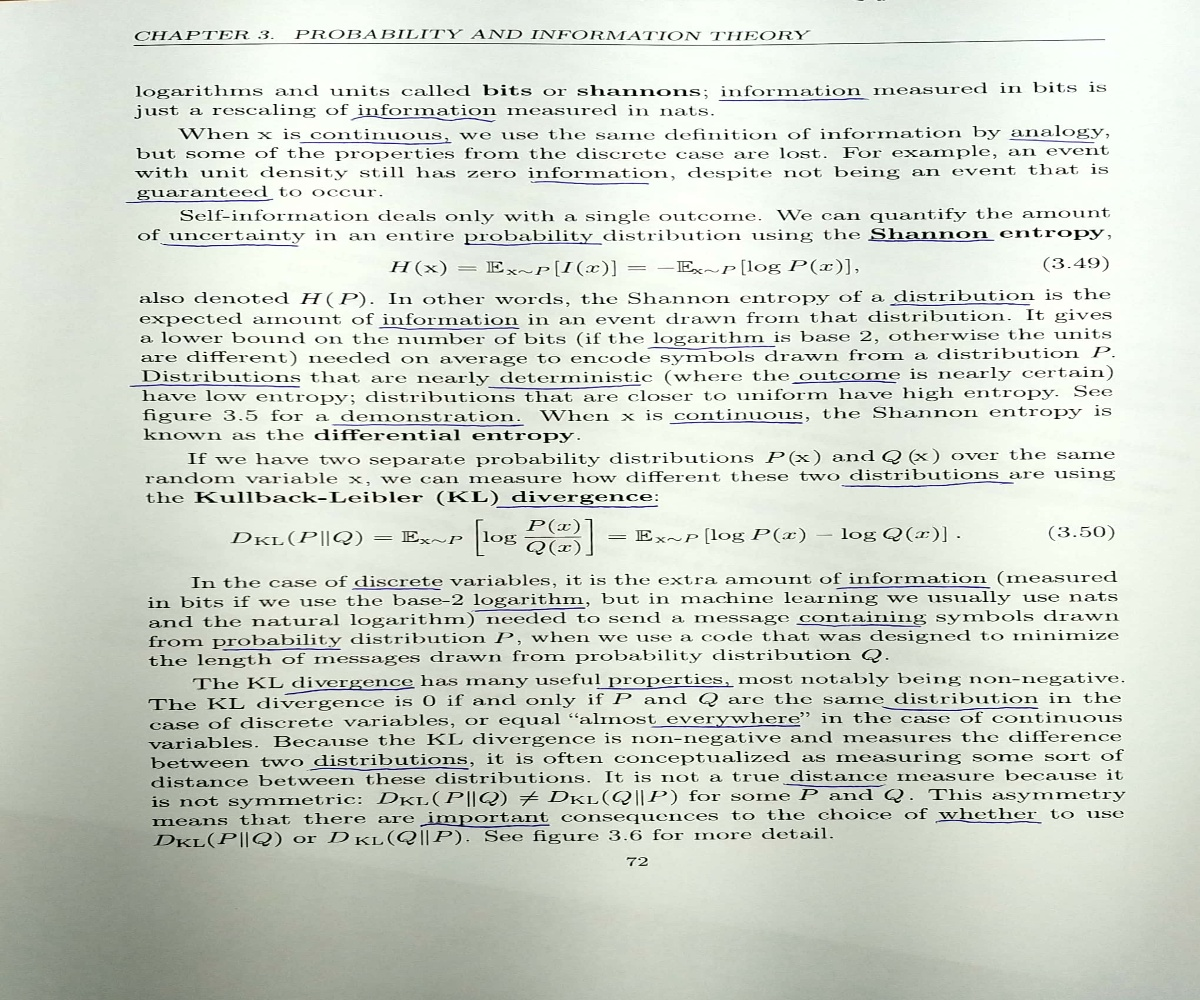underline: (838, 478, 1012, 490), (329, 420, 526, 430), (157, 240, 301, 252), (491, 501, 661, 511), (306, 764, 472, 774), (282, 686, 420, 698), (347, 113, 496, 124), (885, 300, 1034, 311), (418, 820, 551, 832), (792, 620, 923, 632), (836, 581, 993, 591), (874, 703, 1040, 712), (373, 322, 522, 332), (593, 683, 735, 693), (131, 382, 299, 390), (531, 178, 652, 189), (663, 419, 807, 428), (298, 138, 453, 146), (647, 722, 802, 730), (717, 97, 871, 105), (1007, 136, 1101, 149), (933, 817, 1044, 828), (223, 644, 344, 654), (782, 778, 890, 789), (484, 382, 643, 389), (122, 197, 277, 204), (645, 342, 778, 350), (867, 236, 997, 244), (469, 605, 588, 613), (791, 378, 900, 386), (350, 586, 443, 594)
